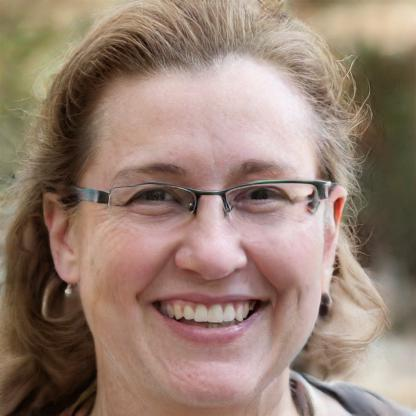glasses: (92, 176, 331, 228)
